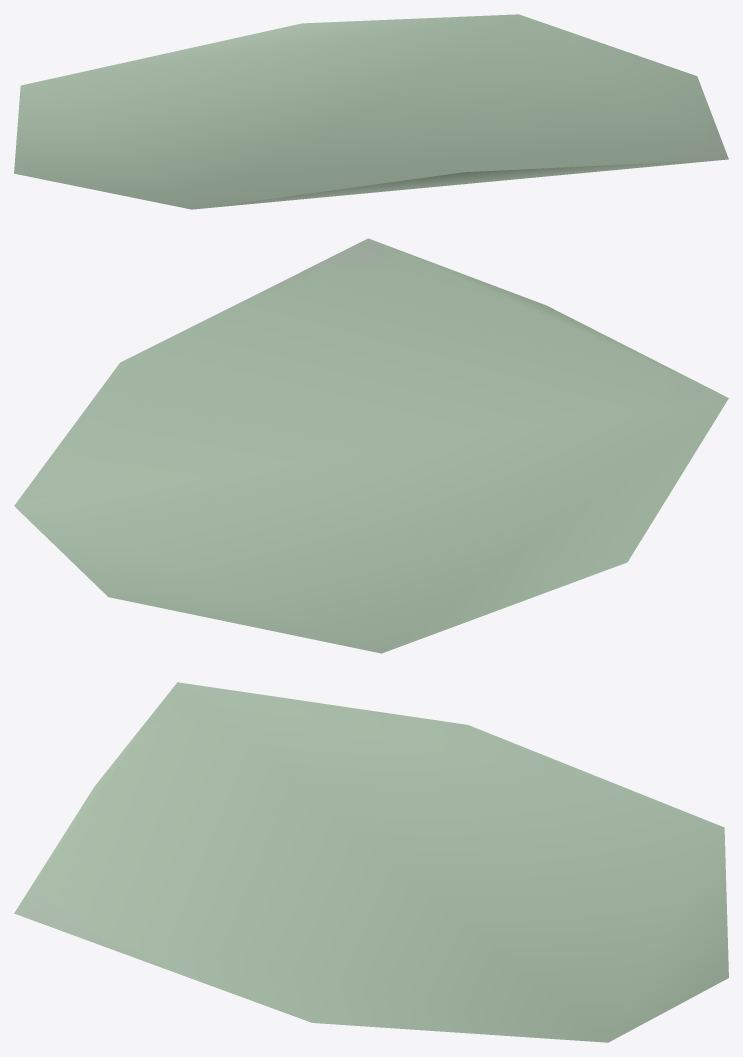
Rendered from TROLLHOLE02_HOLECAP94.fbx.
The picture shows the model from 3 angles, top to bottom: view 1: azimuth 30°, elevation 25°; view 2: azimuth 150°, elevation 25°; view 3: azimuth 270°, elevation 25°; orthographic projection. The views are drawn at different scales.
Visible parts, largest first — view 1: TROLLHOLE02_HOLECAP94; view 2: TROLLHOLE02_HOLECAP94; view 3: TROLLHOLE02_HOLECAP94.
Boxes of the visible parts, <box> form: TROLLHOLE02_HOLECAP94: <box>14,14,728,209</box>; TROLLHOLE02_HOLECAP94: <box>14,238,728,653</box>; TROLLHOLE02_HOLECAP94: <box>14,682,728,1042</box>.
Size of the model in its own units: 19087 by 3434 by 19022.
Materials: 1 (1 with a texture image).
